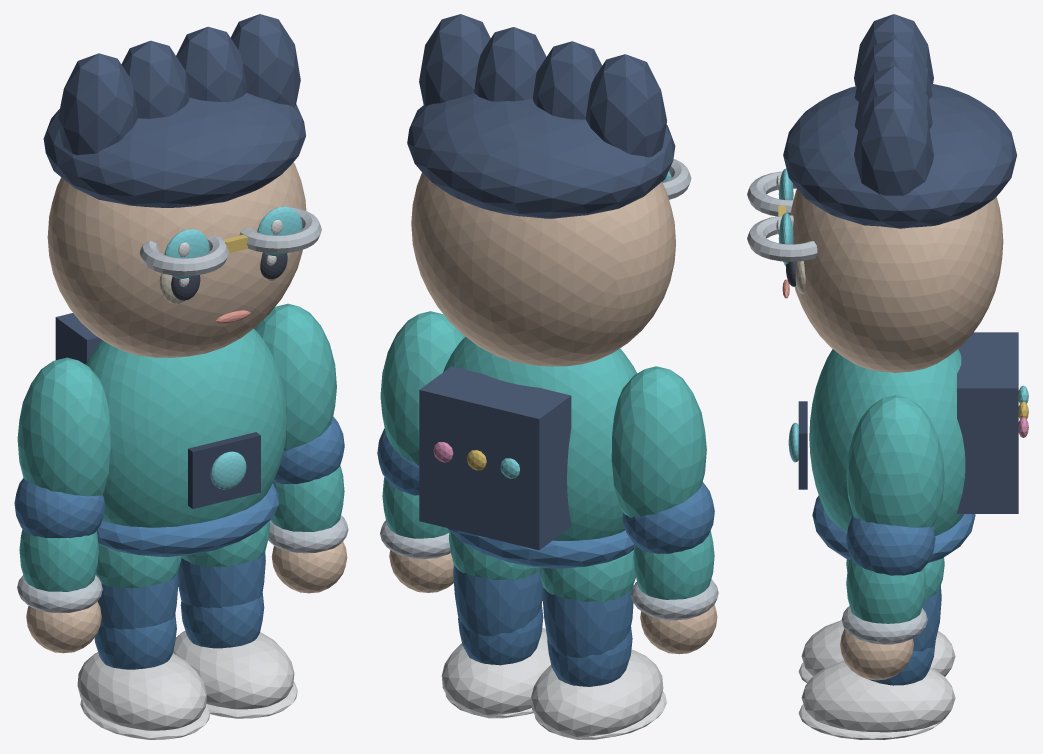
File: avatar_ai_research_v2.glb
The picture shows the model from 3 angles, left to right: view 1: azimuth 30°, elevation 25°; view 2: azimuth 150°, elevation 25°; view 3: azimuth 270°, elevation 25°; orthographic projection. The views are drawn at different scales.
Parts seen in each view (by area): view 1: head_face, body_core, hair_cap, L_sleeve_upper, L_shoe, R_sleeve_upper, R_shoe, hair_spike_0, waist_band, hair_spike_3, L_sleeve_lower, hair_spike_2 (+23 smaller); view 2: head_face, field_pack, hair_cap, body_core, L_sleeve_upper, L_shoe, R_sleeve_upper, hair_spike_0, R_shoe, L_leg, hair_spike_3, R_leg (+17 smaller); view 3: head_face, hair_cap, body_core, R_sleeve_upper, field_pack, R_shoe, hair_spike_3, R_elbow, R_sleeve_lower, R_hand, L_shoe, hair_spike_1 (+11 smaller).
Part boxes in pixels (x1,y1,x2,y2): head_face: (47,162,306,357); body_core: (86,328,286,527); hair_cap: (43,93,305,207); L_sleeve_upper: (17,357,110,496); L_shoe: (77,652,206,730); R_sleeve_upper: (254,303,336,450); R_shoe: (173,630,294,709); hair_spike_0: (58,53,137,155); waist_band: (96,483,278,556); hair_spike_3: (230,14,300,107); L_sleeve_lower: (19,529,98,591); hair_spike_2: (176,26,246,102); head_face: (411,172,675,366); field_pack: (419,366,571,550); hair_cap: (407,93,675,218); body_core: (443,336,637,568); L_sleeve_upper: (611,366,706,517); L_shoe: (531,649,663,739); R_sleeve_upper: (380,311,465,465); hair_spike_0: (586,54,666,157); R_shoe: (441,628,550,718); L_leg: (542,585,633,657); hair_spike_3: (419,14,490,106); R_leg: (453,565,542,636); head_face: (790,189,1003,372); hair_cap: (783,84,1016,228); body_core: (809,349,965,535); R_sleeve_upper: (846,395,944,527); field_pack: (957,332,1018,513); R_shoe: (801,661,955,732); hair_spike_3: (854,91,933,195); R_elbow: (846,515,935,575); R_sleeve_lower: (846,558,926,623); R_hand: (840,628,913,680); L_shoe: (801,620,955,676); hair_spike_1: (855,39,932,101).
Size of the model in its own units: 1.17 by 2.36 by 0.915.
